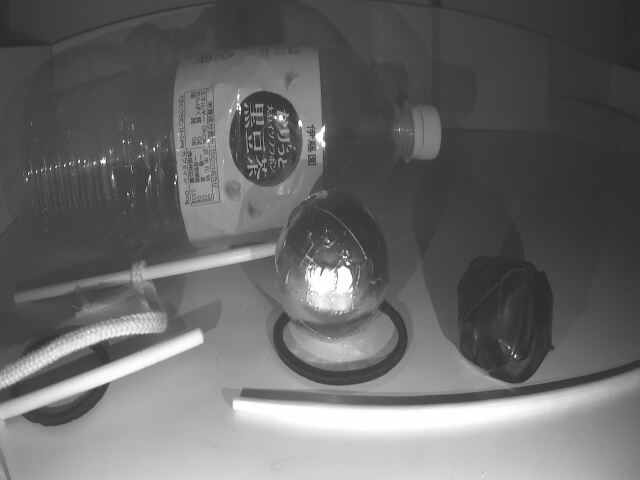Dead: (459, 253, 554, 382)
Live: (278, 190, 384, 340)
